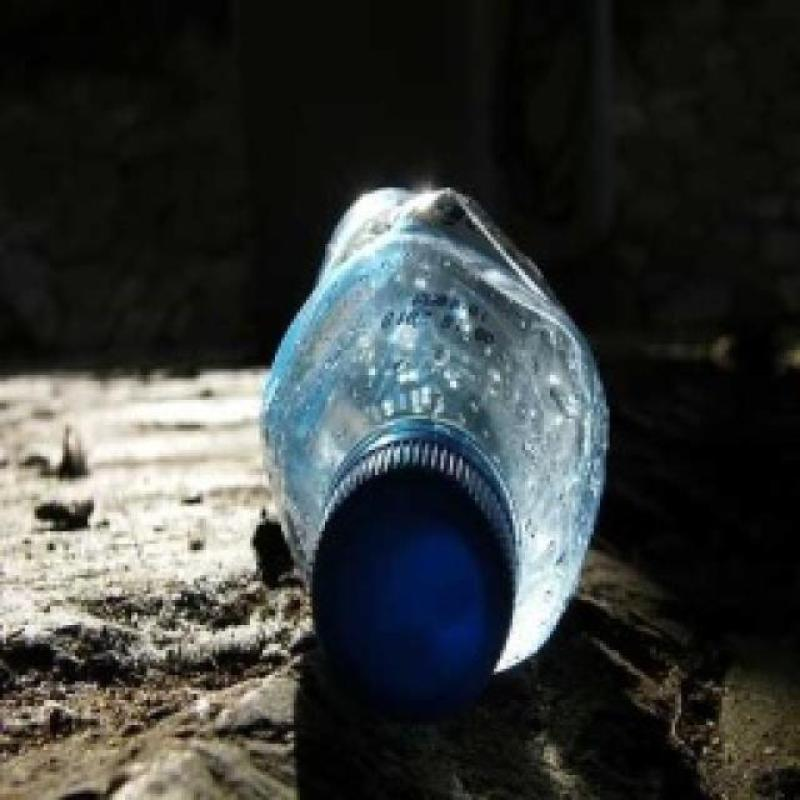botella: (253, 172, 609, 684)
